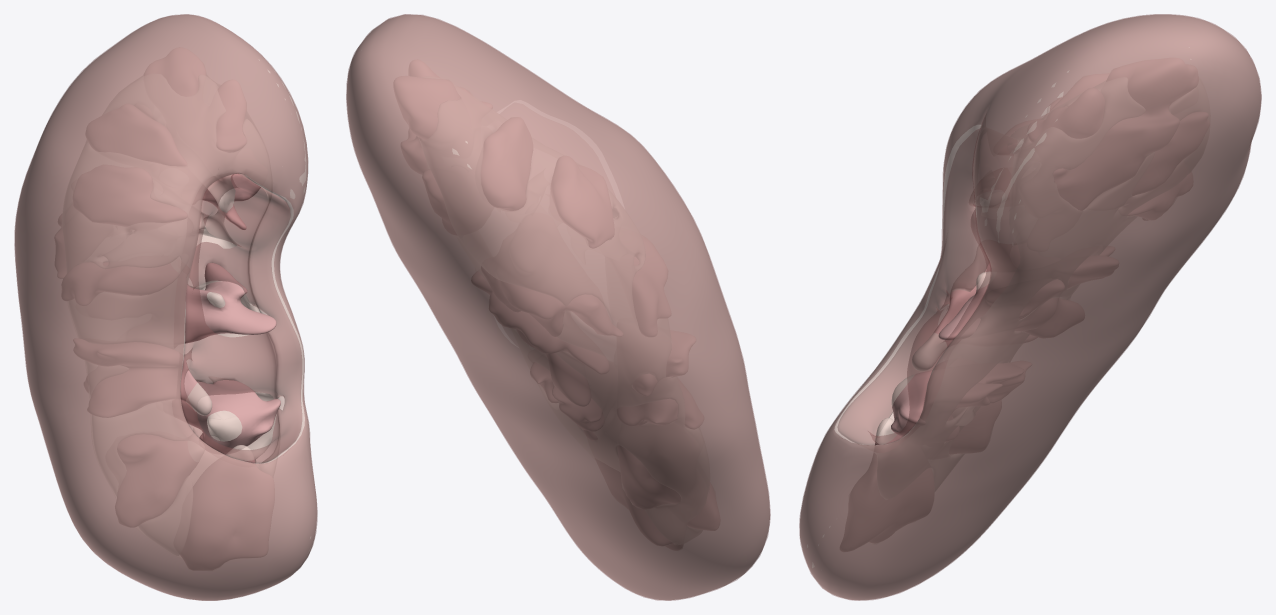
File: kidney.glb
3 views of the same model, side by side, from view 1: azimuth 30°, elevation 25°; view 2: azimuth 150°, elevation 25°; view 3: azimuth 270°, elevation 25° (orthographic). The views are drawn at different scales.
Parts seen in each view (by area): view 1: VH_M_outer_cortex_of_kidney_R, VH_M_kidney_capsule_R, VH_M_hilum_of_kidney_R, VH_M_renal_pyramid_j, VH_M_renal_column_R, VH_M_renal_pyramid_g, VH_M_renal_pyramid_i, VH_M_renal_pyramid_a, VH_M_renal_pyramid_c, VH_M_renal_pyramid_h, VH_M_renal_pyramid_f, VH_M_renal_pyramid_b (+4 smaller); view 2: VH_M_kidney_capsule_R, VH_M_outer_cortex_of_kidney_R, VH_M_renal_pyramid_a, VH_M_renal_pyramid_c, VH_M_renal_pyramid_f, VH_M_renal_pyramid_b, VH_M_renal_pyramid_d, VH_M_renal_pyramid_g, VH_M_renal_pyramid_i, VH_M_renal_column_R, VH_M_renal_pyramid_e, VH_M_renal_pyramid_h (+1 smaller); view 3: VH_M_outer_cortex_of_kidney_R, VH_M_kidney_capsule_R, VH_M_renal_pyramid_a, VH_M_hilum_of_kidney_R, VH_M_renal_pyramid_j, VH_M_renal_pyramid_f, VH_M_renal_pyramid_h, VH_M_renal_pyramid_g, VH_M_renal_pyramid_i, VH_M_renal_column_R, VH_M_renal_pyramid_d, VH_M_renal_papilla_R_g.
Boxes of the visible parts, left/top/right/bottom form: VH_M_outer_cortex_of_kidney_R: left=15, top=14, right=317, bottom=600; VH_M_kidney_capsule_R: left=14, top=14, right=317, bottom=600; VH_M_hilum_of_kidney_R: left=180, top=173, right=301, bottom=463; VH_M_renal_pyramid_j: left=180, top=454, right=274, bottom=569; VH_M_renal_column_R: left=102, top=105, right=276, bottom=495; VH_M_renal_pyramid_g: left=73, top=339, right=197, bottom=417; VH_M_renal_pyramid_i: left=115, top=435, right=198, bottom=526; VH_M_renal_pyramid_a: left=144, top=48, right=260, bottom=229; VH_M_renal_pyramid_c: left=73, top=165, right=187, bottom=225; VH_M_renal_pyramid_h: left=181, top=377, right=280, bottom=454; VH_M_renal_pyramid_f: left=184, top=263, right=276, bottom=343; VH_M_renal_pyramid_b: left=86, top=104, right=186, bottom=165; VH_M_kidney_capsule_R: left=346, top=14, right=770, bottom=600; VH_M_outer_cortex_of_kidney_R: left=346, top=15, right=769, bottom=600; VH_M_renal_pyramid_a: left=394, top=60, right=492, bottom=234; VH_M_renal_pyramid_c: left=551, top=156, right=613, bottom=247; VH_M_renal_pyramid_f: left=471, top=271, right=608, bottom=405; VH_M_renal_pyramid_b: left=481, top=117, right=532, bottom=210; VH_M_renal_pyramid_d: left=481, top=267, right=622, bottom=336; VH_M_renal_pyramid_g: left=617, top=331, right=703, bottom=428; VH_M_renal_pyramid_i: left=618, top=446, right=719, bottom=530; VH_M_renal_column_R: left=430, top=125, right=635, bottom=312; VH_M_renal_pyramid_e: left=633, top=237, right=670, bottom=336; VH_M_renal_pyramid_h: left=530, top=362, right=604, bottom=439; VH_M_outer_cortex_of_kidney_R: left=800, top=14, right=1261, bottom=600; VH_M_kidney_capsule_R: left=799, top=14, right=1261, bottom=600; VH_M_renal_pyramid_a: left=1028, top=58, right=1209, bottom=209; VH_M_hilum_of_kidney_R: left=837, top=128, right=991, bottom=445; VH_M_renal_pyramid_j: left=840, top=435, right=933, bottom=551; VH_M_renal_pyramid_f: left=938, top=246, right=1118, bottom=340; VH_M_renal_pyramid_h: left=891, top=361, right=1031, bottom=441; VH_M_renal_pyramid_g: left=933, top=246, right=1036, bottom=347; VH_M_renal_pyramid_i: left=949, top=401, right=1001, bottom=453; VH_M_renal_column_R: left=874, top=144, right=1118, bottom=457; VH_M_renal_pyramid_d: left=1128, top=172, right=1192, bottom=219; VH_M_renal_papilla_R_g: left=912, top=332, right=947, bottom=371.
Size of the model in its own units: 0.8678 by 1.49 by 1.01.
